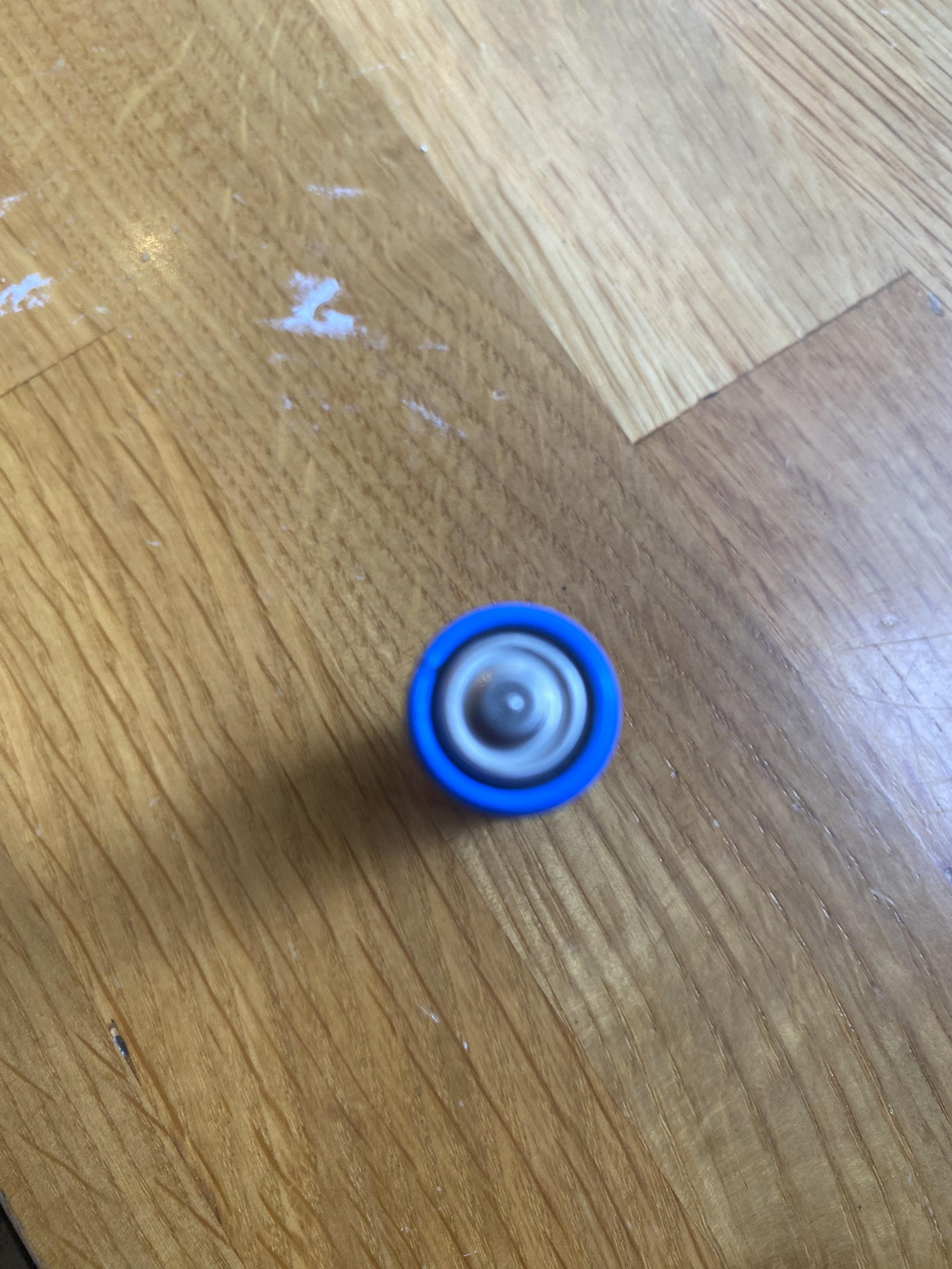AA: (405, 599, 624, 817)
